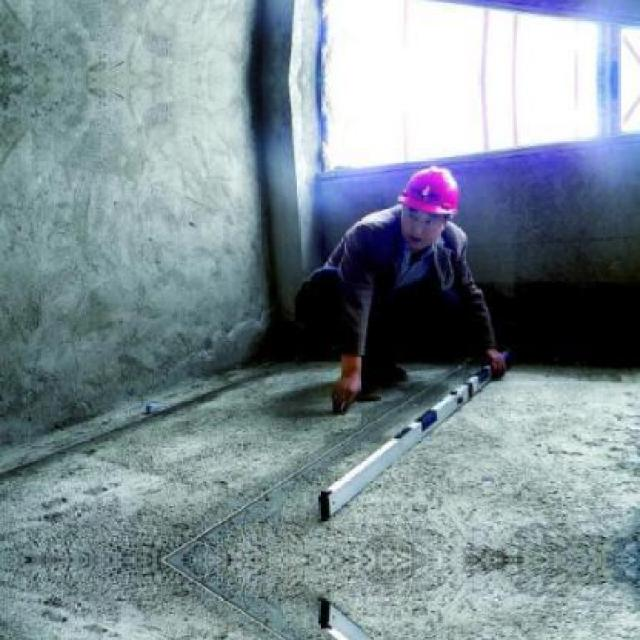hat: (400, 150, 463, 219)
